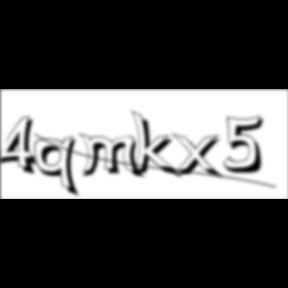4: (0, 115, 44, 179)
5: (222, 114, 270, 176)
k: (130, 108, 183, 181)
m: (79, 132, 147, 181)
q: (34, 135, 84, 200)
x: (172, 132, 226, 181)
